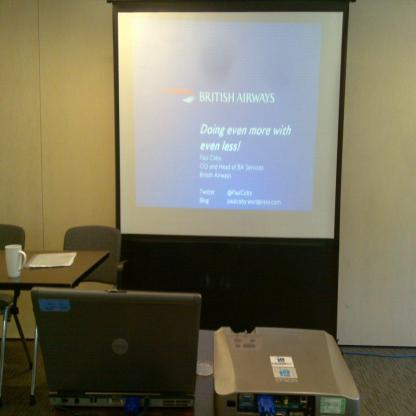board: (25, 284, 204, 416)
